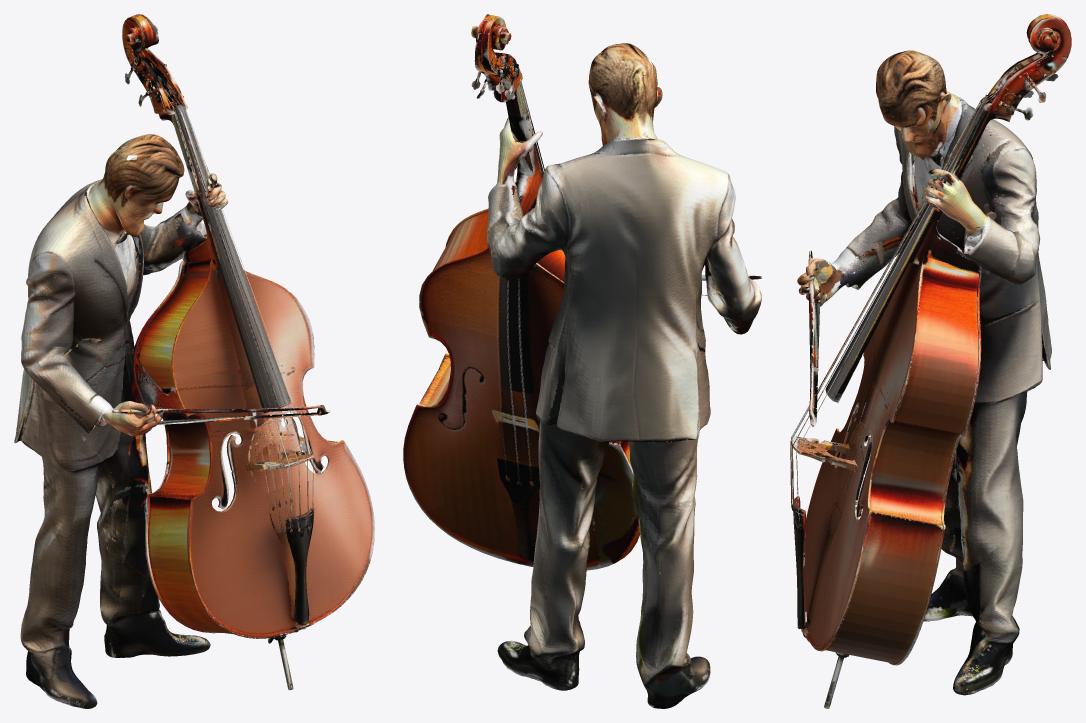
Rendered from textured_ours.glb.
3 views of the same model, side by side, from view 1: azimuth 30°, elevation 25°; view 2: azimuth 150°, elevation 25°; view 3: azimuth 270°, elevation 25° (orthographic). The views are drawn at different scales.
Visible parts, largest first — view 1: Node; view 2: Node; view 3: Node.
Part boxes in pixels (box(x1,y1,x2,y2)): Node: box(14, 14, 374, 708); Node: box(403, 14, 761, 708); Node: box(790, 14, 1071, 708).
Size of the model in its own units: 1.1 by 2 by 0.7665.
1 material, 1 textured.
